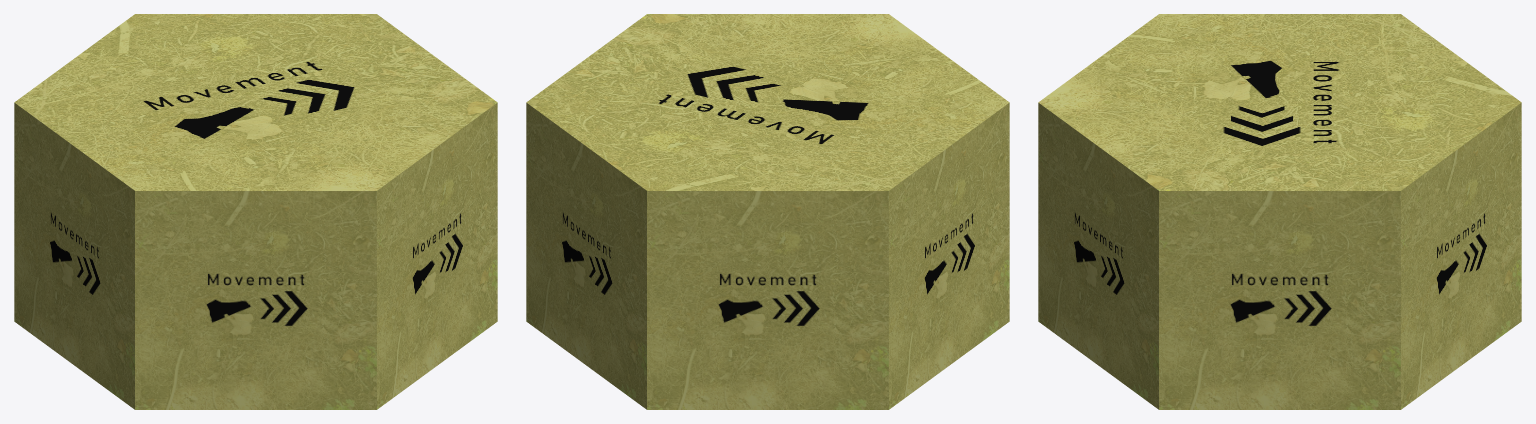
The model's file is Tile_Movement.fbx.
The picture shows the model from 3 angles, left to right: view 1: azimuth 30°, elevation 25°; view 2: azimuth 150°, elevation 25°; view 3: azimuth 270°, elevation 25°; orthographic projection.
Visible parts, largest first — view 1: Tile_Movement; view 2: Tile_Movement; view 3: Tile_Movement.
Boxes of the visible parts, <box> form: Tile_Movement: <box>14,14,497,409</box>; Tile_Movement: <box>526,14,1009,409</box>; Tile_Movement: <box>1038,14,1521,409</box>.
Bounding box in the file's own units: 1.73 × 1 × 2.
